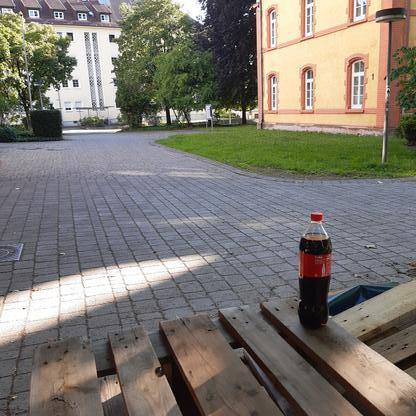coca-cola: (295, 210, 334, 333)
